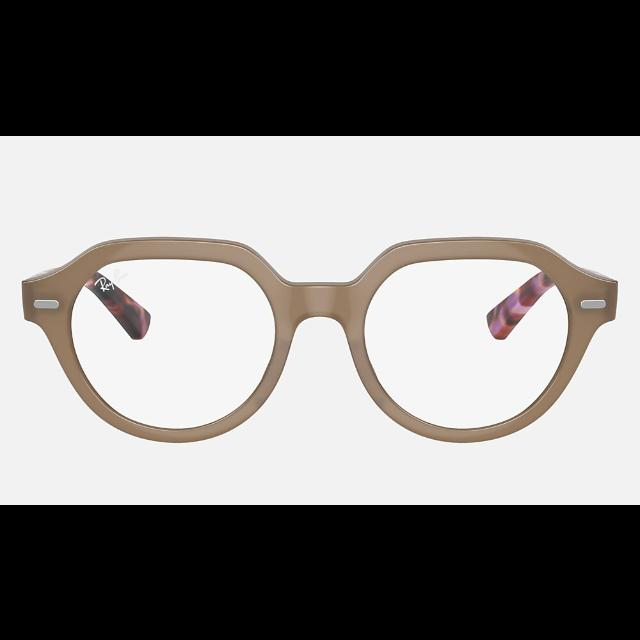glasses: (19, 236, 618, 442)
